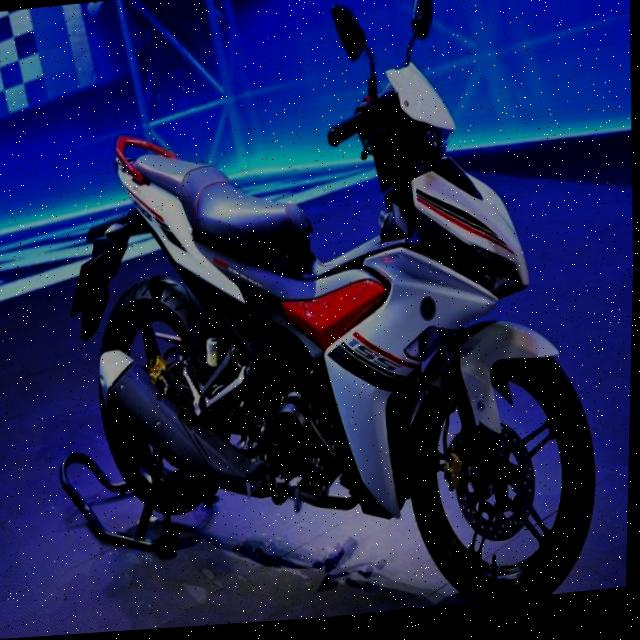motorcycle: (54, 0, 608, 635)
